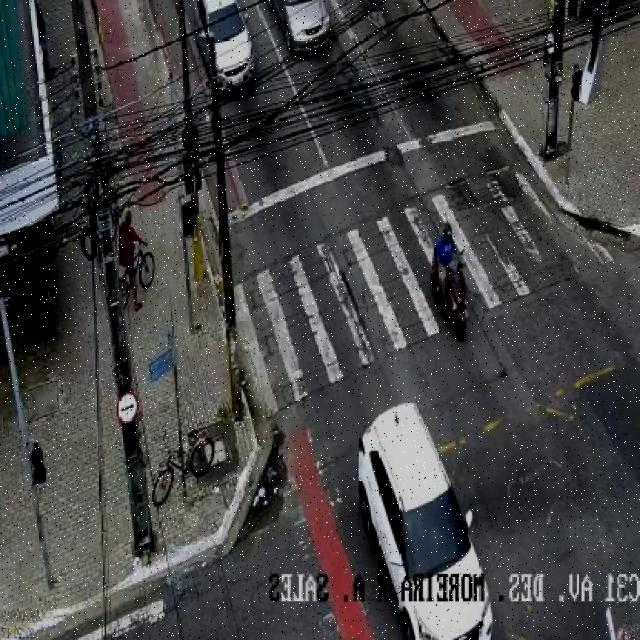Car: (357, 402, 494, 640), (191, 0, 258, 94), (267, 0, 335, 57)
Cycle: (150, 427, 217, 507), (430, 259, 472, 340)
